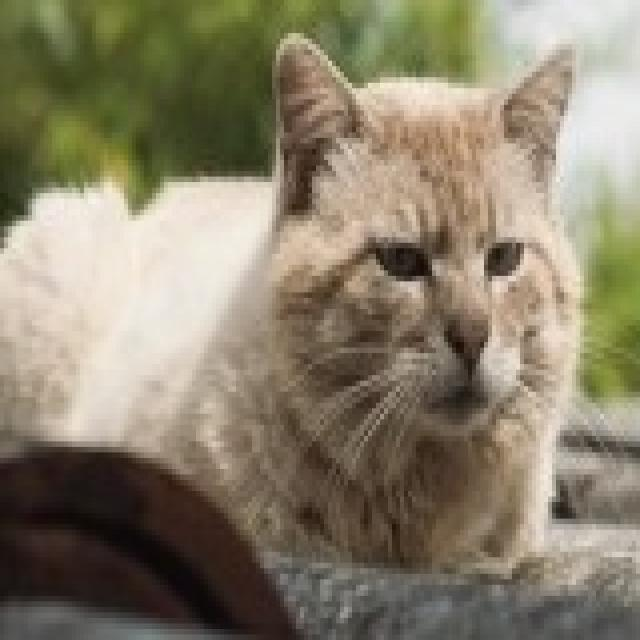cat: (0, 24, 598, 592)
